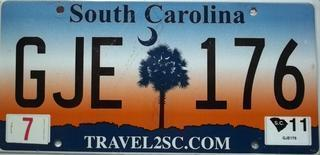placa de veiculo: (4, 2, 317, 154)
